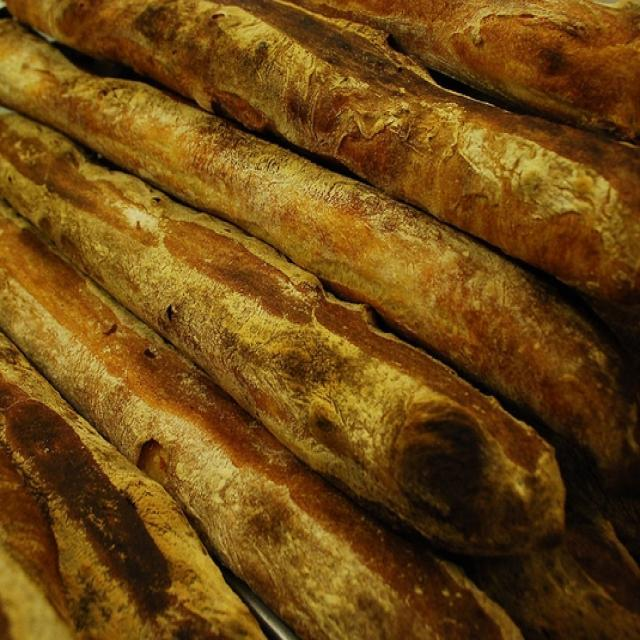Bread: (6, 5, 635, 640)
